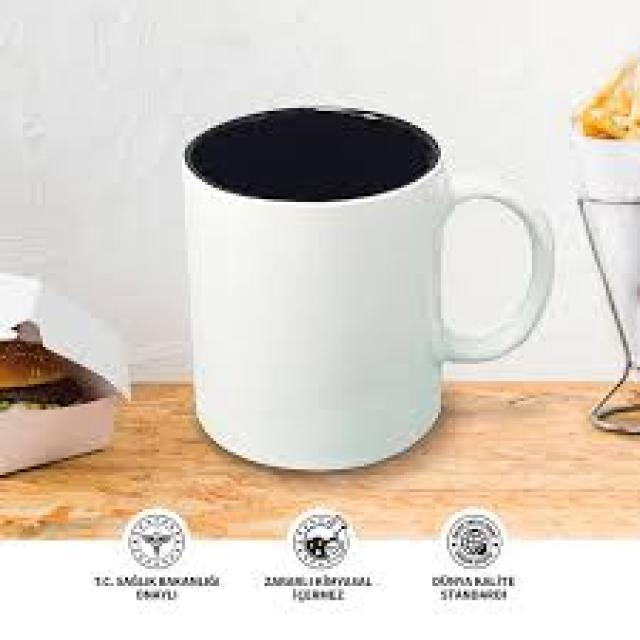taza: (181, 102, 555, 474)
